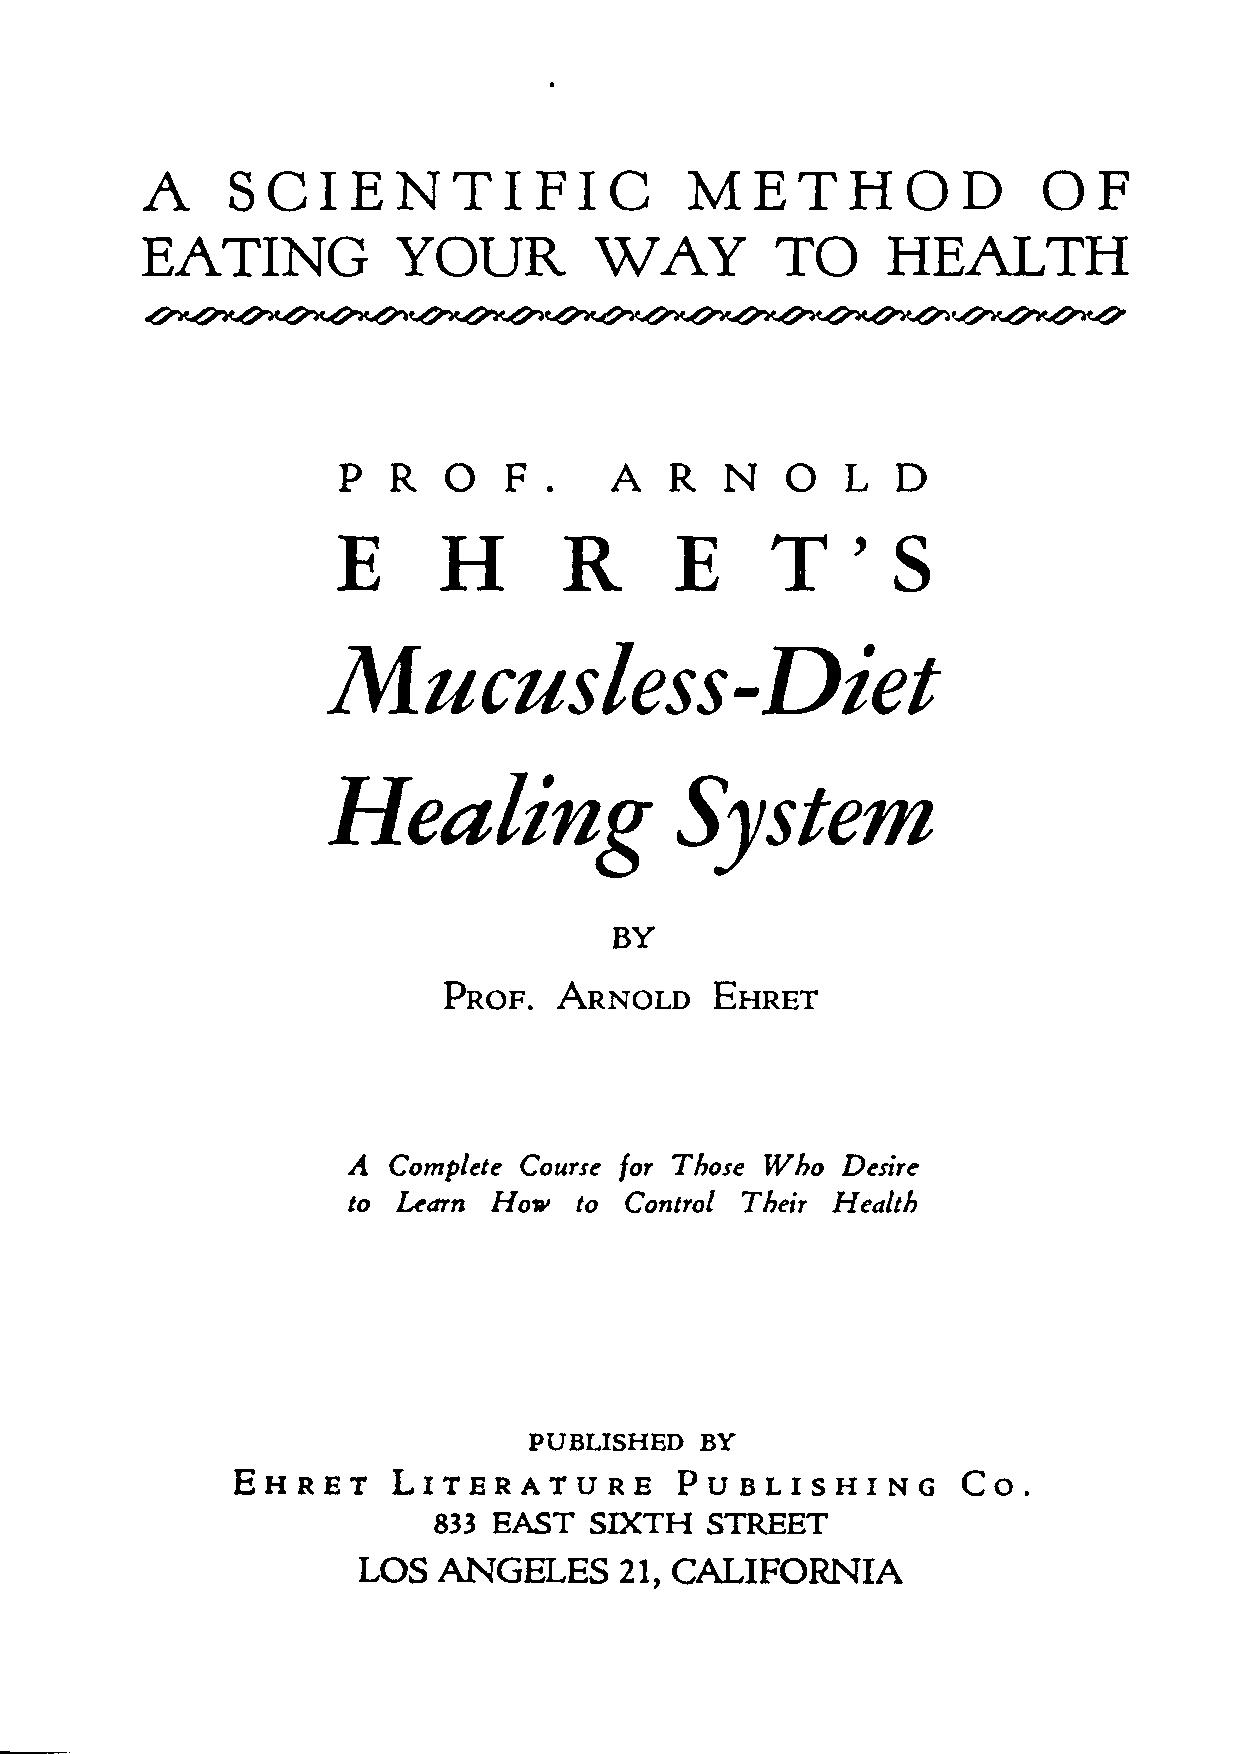author: (439, 922, 821, 1017)
title: (323, 452, 941, 880)
